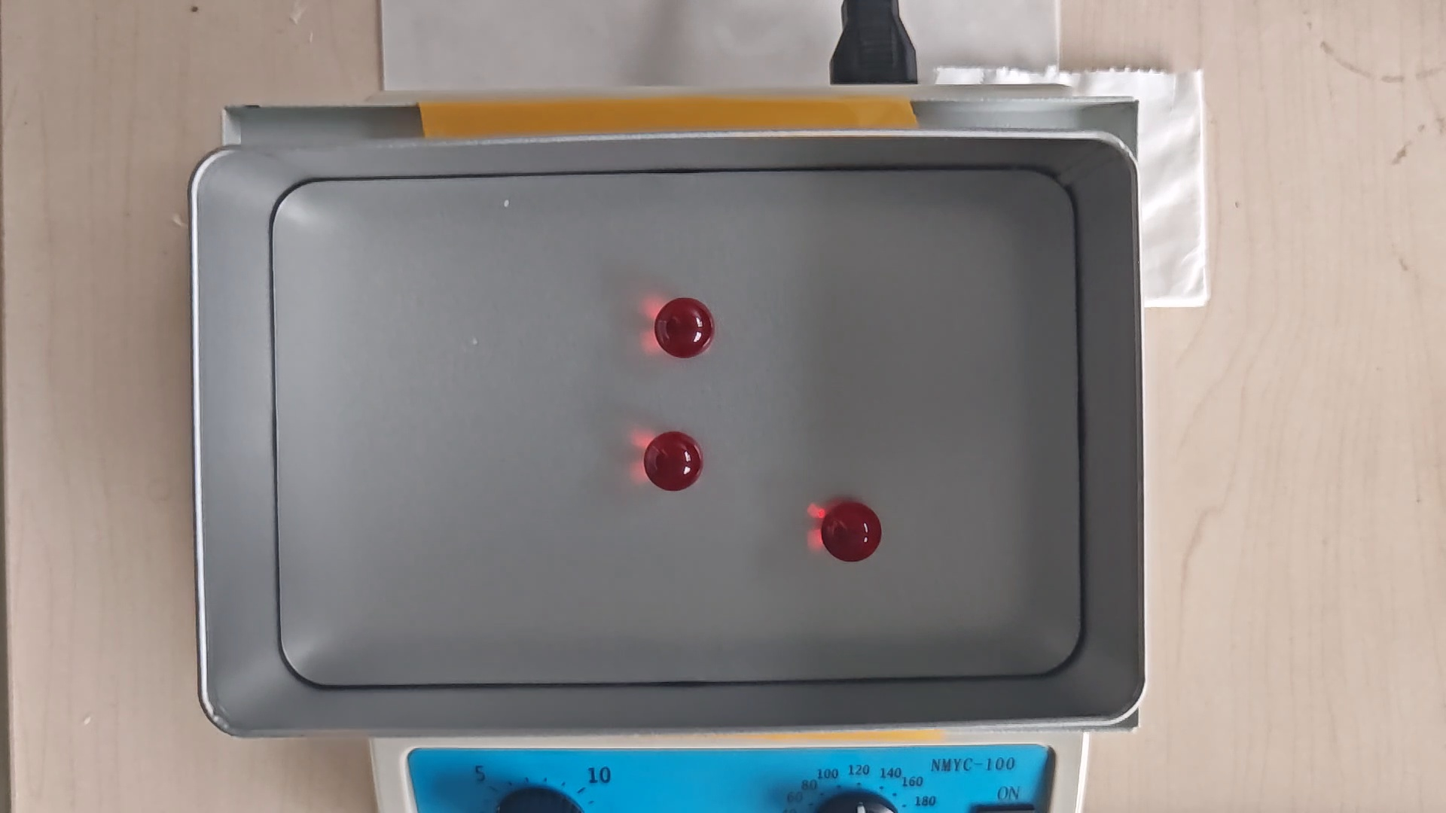ball: (654, 297, 716, 360), (821, 501, 882, 563), (642, 431, 702, 492)
container: (274, 172, 1085, 681)
